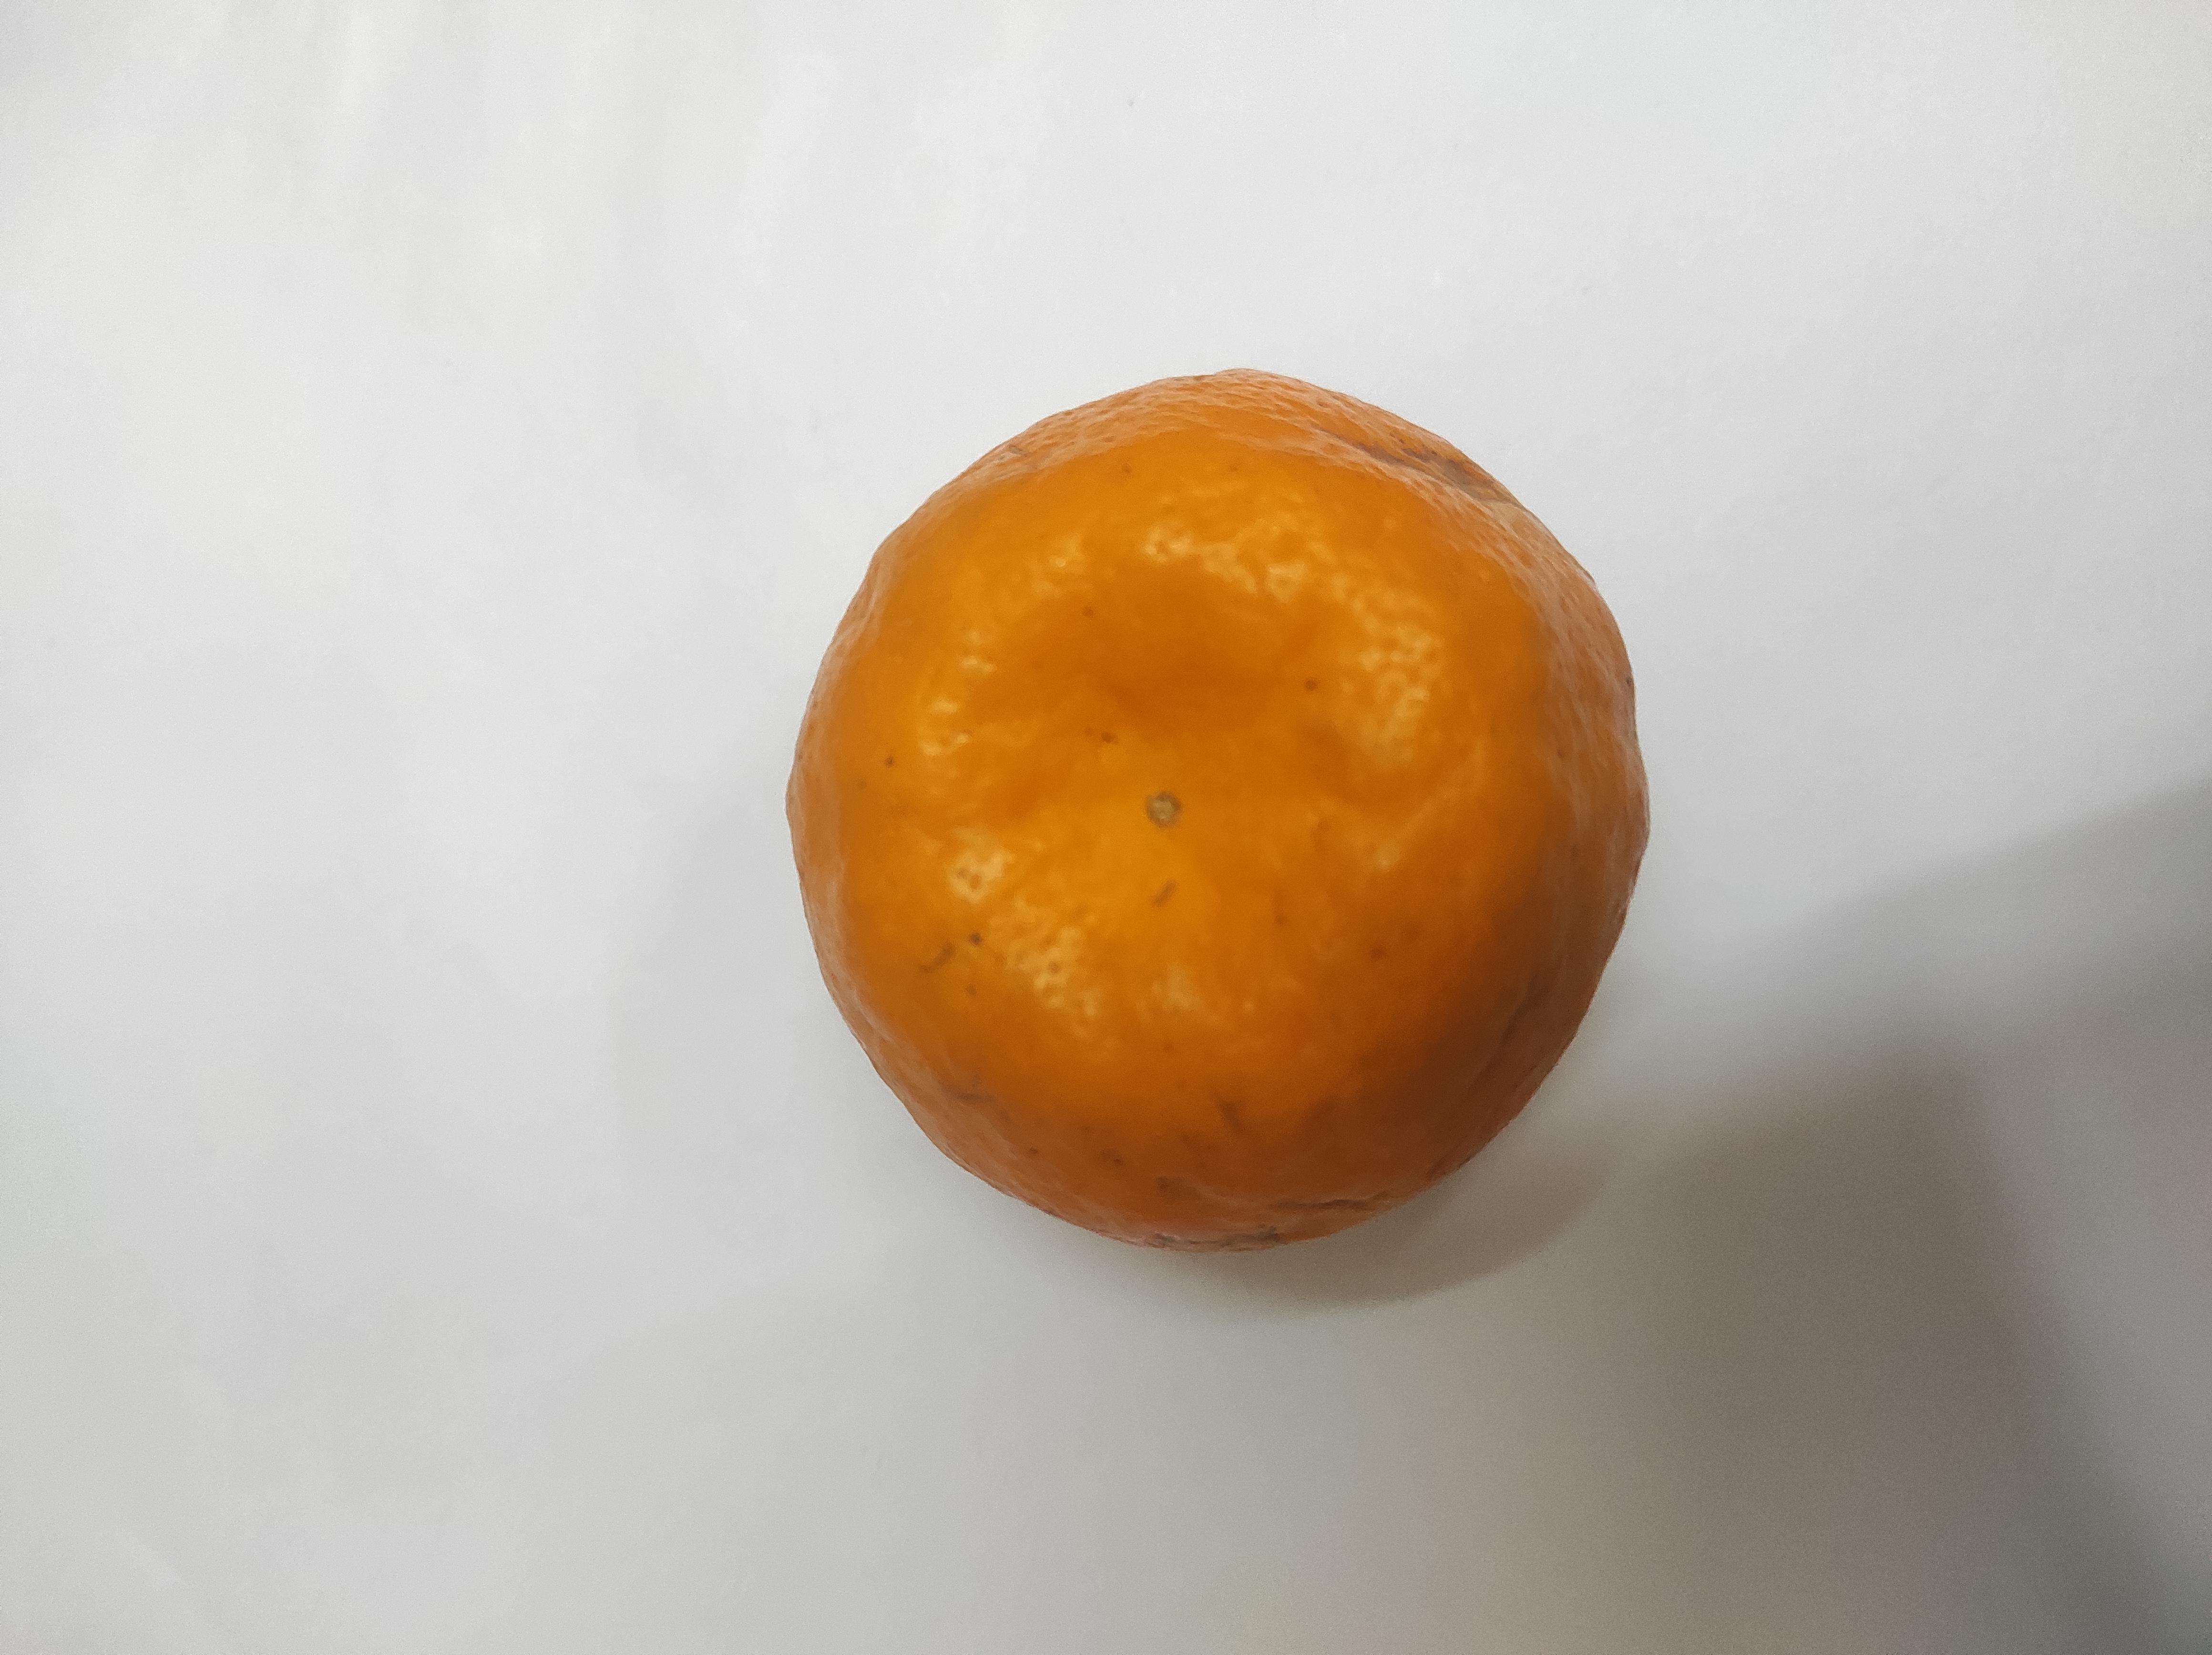Ripe: (548, 596, 1701, 1234)
